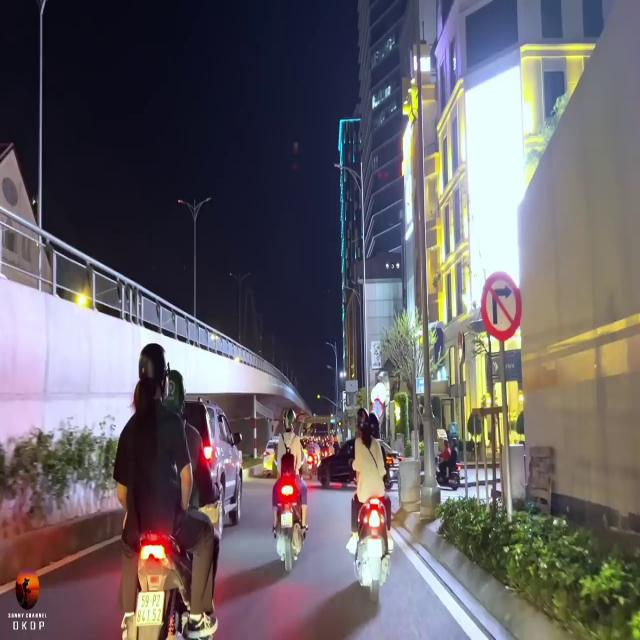bien_trang: (136, 587, 164, 625)
